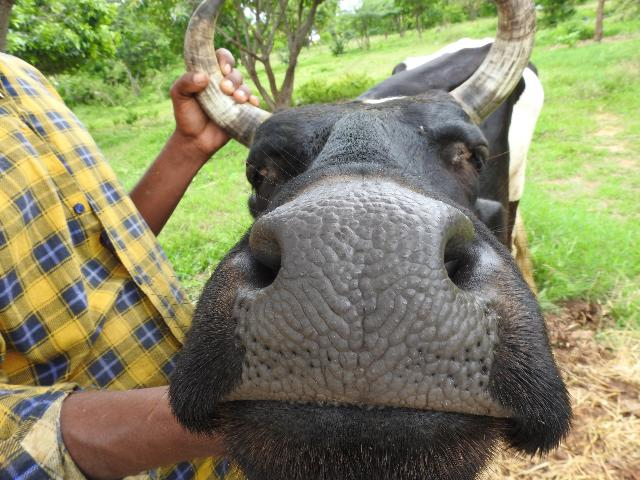Muzzle: (274, 202, 460, 404)
